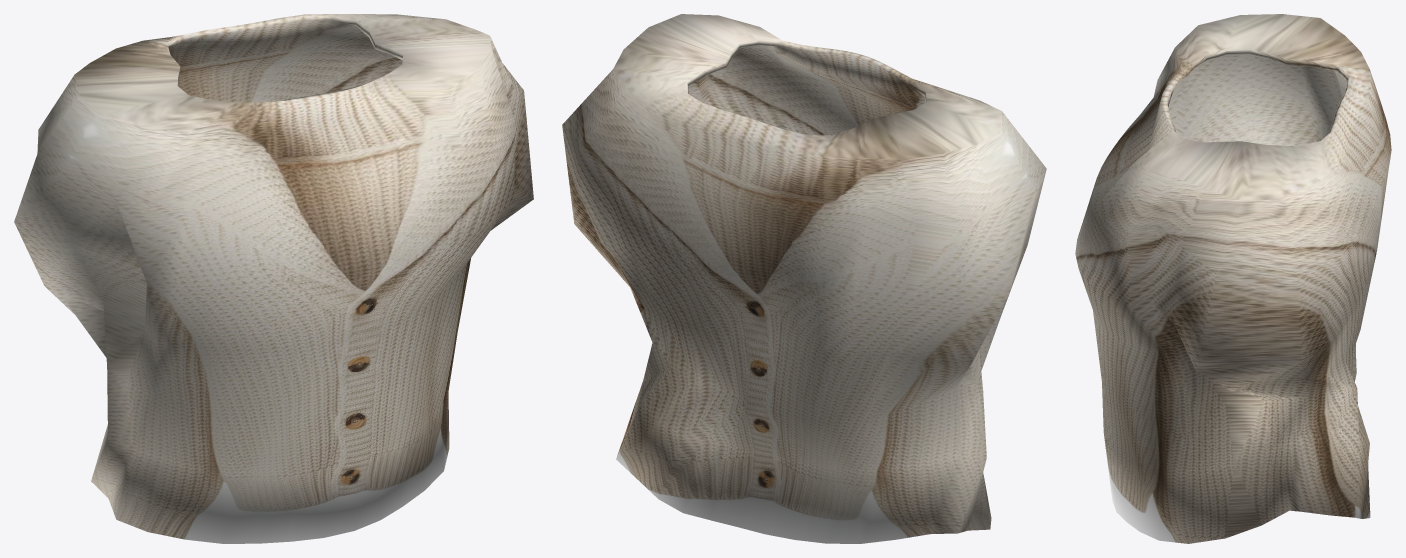
File: 810fe7f2-5128-4ec3-9fdf-1c797140cb6a.glb
3 views of the same model, side by side, from view 1: azimuth 30°, elevation 25°; view 2: azimuth 150°, elevation 25°; view 3: azimuth 270°, elevation 25° (orthographic). The views are drawn at different scales.
Visible parts, largest first — view 1: garment; view 2: garment; view 3: garment.
Part boxes in pixels (left/top/right/bottom): garment: left=14, top=14, right=533, bottom=543; garment: left=562, top=14, right=1046, bottom=543; garment: left=1075, top=14, right=1391, bottom=543.
Bounding box in the file's own units: 0.5406 × 0.474 × 0.3353.
1 material, 1 textured.
